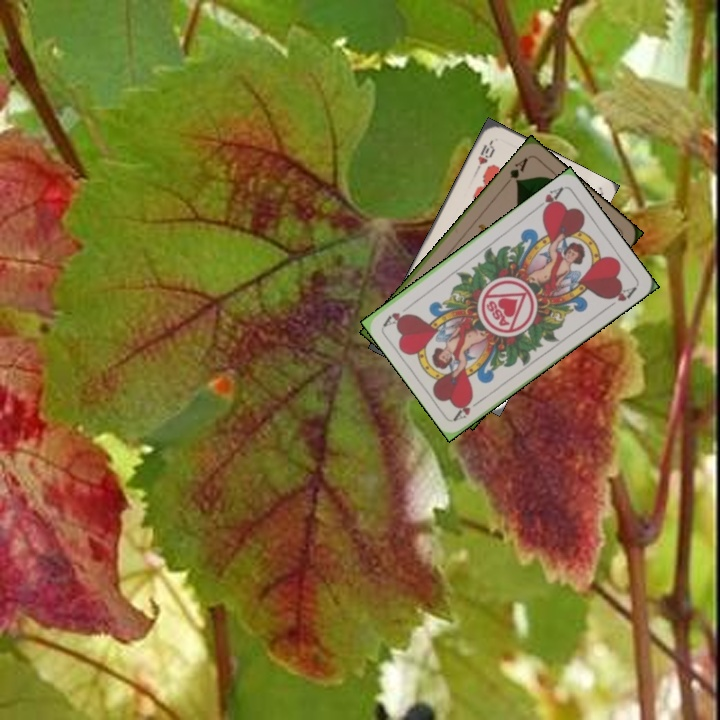GA: (501, 154, 531, 188)
H10: (471, 136, 497, 174)
HA: (531, 183, 566, 215), (450, 394, 486, 423)
